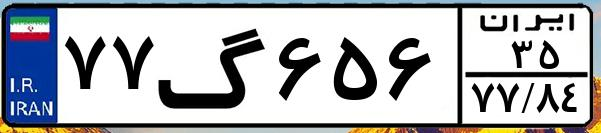3: (508, 27, 537, 80)
4: (560, 70, 590, 125)
5: (330, 28, 385, 110), (537, 27, 568, 80)
6: (270, 28, 330, 110), (385, 28, 445, 110)
7: (57, 26, 110, 100), (110, 28, 156, 98), (470, 70, 495, 125), (495, 70, 520, 125)
8: (535, 70, 560, 125)
گ: (156, 12, 270, 120)
